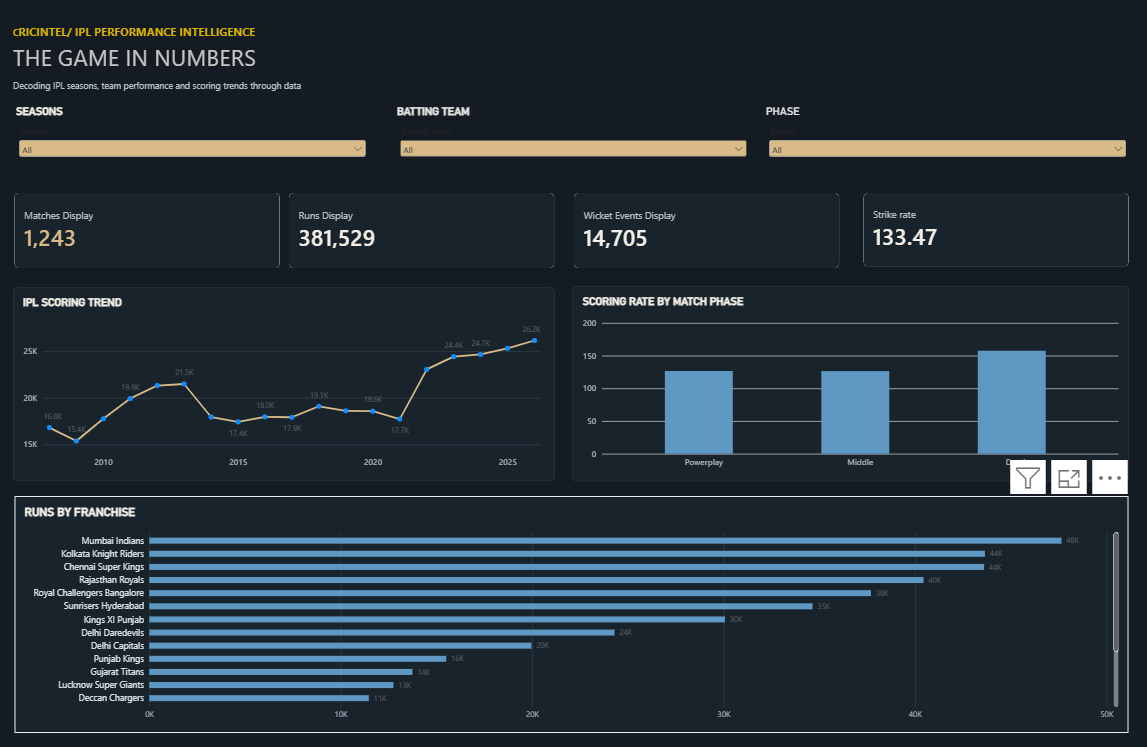

What the dashboard file says about the page in this screenshot:
{"tool":"powerbi","page":{"name":"IPL Overview","canvas":[1920,1250],"ordinal":0},"visuals":[{"type":"slicer","title":"SEASONS","fields":{"Values":["ipl_deliveries.season"]},"box":[30,177.5,587.5,107.5],"z":0},{"type":"slicer","title":"BATTING TEAM","fields":{"Values":["ipl_deliveries.batting_team"]},"box":[665,177.5,587.5,117.5],"z":1000},{"type":"slicer","title":"PHASE","fields":{"Values":["ipl_deliveries.phase"]},"box":[1280,177.5,605,117.5],"z":2000},{"type":"lineChart","title":"IPL SCORING TREND","fields":{"Category":["ipl_deliveries.season"],"Y":["ipl_deliveries.Total runs"]},"box":[25,482.5,902.5,322.5],"z":7000},{"type":"clusteredColumnChart","title":"SCORING RATE BY MATCH PHASE","fields":{"Category":["ipl_deliveries.phase"],"Y":["ipl_deliveries.Strike rate"]},"box":[957.5,480,927.5,325],"z":8000},{"type":"clusteredBarChart","title":"RUNS BY FRANCHISE","fields":{"Category":["ipl_deliveries.batting_team"],"Y":["ipl_deliveries.Team Runs"]},"box":[27.5,830,1857.5,395],"z":9000},{"type":"textbox","box":[25,72.5,1187.5,62.5],"z":10000},{"type":"textbox","box":[25,42.5,567.5,30],"z":11000},{"type":"textbox","box":[25,135,1860,42.5],"z":12000},{"type":"cardVisual","fields":{"Data":["ipl_deliveries.Strike rate"]},"box":[1442.5,325,442.5,122.5],"z":12001},{"type":"cardVisual","fields":{"Data":["Player Match Performance.Wicket Events Display"]},"box":[960,325,442.5,125],"z":12002},{"type":"cardVisual","fields":{"Data":["Player Match Performance.Runs Display"]},"box":[485,325,442.5,125],"z":12003},{"type":"cardVisual","fields":{"Data":["Player Match Performance.Matches Display"]},"box":[27.5,325,442.5,125],"z":12004}]}

Visuals, with their boxes in screenshot pixels (x1, y1, x2, y2), scaled from the page's 1920x1250 canvas onto the 1147x747 screenshot:
"SEASONS" slicer: 18/106/369/170
"BATTING TEAM" slicer: 397/106/748/176
"PHASE" slicer: 765/106/1126/176
"IPL SCORING TREND" lineChart: 15/288/554/481
"SCORING RATE BY MATCH PHASE" clusteredColumnChart: 572/287/1126/481
"RUNS BY FRANCHISE" clusteredBarChart: 16/496/1126/732
textbox: 15/43/724/81
textbox: 15/25/354/43
textbox: 15/81/1126/106
cardVisual - ipl_deliveries.Strike rate: 862/194/1126/267
cardVisual - Player Match Performance.Wicket Events Display: 574/194/838/269
cardVisual - Player Match Performance.Runs Display: 290/194/554/269
cardVisual - Player Match Performance.Matches Display: 16/194/281/269
